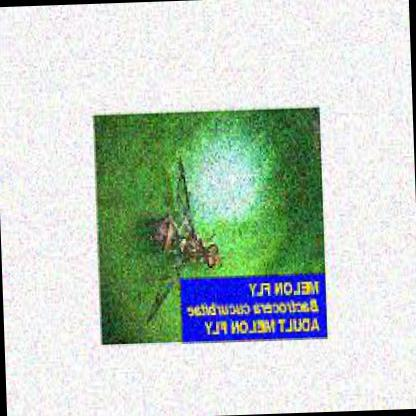fruit fly: (148, 155, 218, 324)
